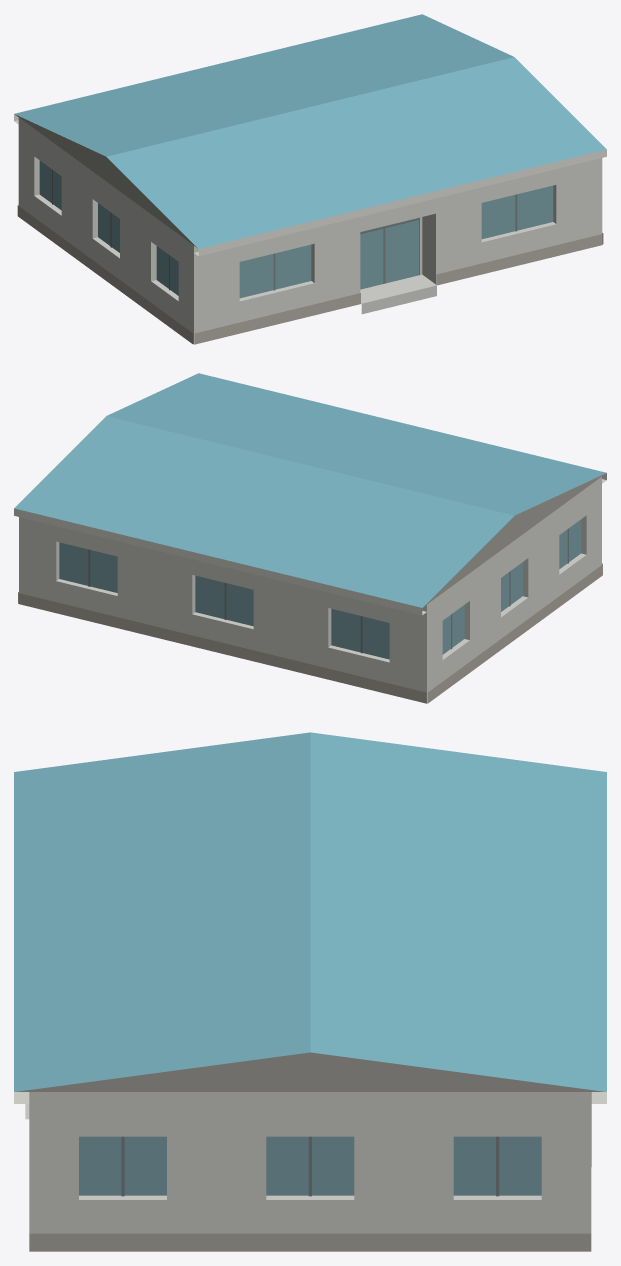
The picture shows the model from 3 angles, top to bottom: view 1: azimuth 30°, elevation 25°; view 2: azimuth 150°, elevation 25°; view 3: azimuth 270°, elevation 25°; orthographic projection. The views are drawn at different scales.
Visible parts, largest first — view 1: aux778946319__roofAccent, aux778946319__wall, aux778946319__glass, aux778946319__base, aux778946319__trim, aux778946319__wall2, aux778946319__entranceThreshold_0, aux778946319__frame; view 2: aux778946319__roofAccent, aux778946319__wall, aux778946319__glass, aux778946319__base, aux778946319__trim, aux778946319__wall2, aux778946319__frame; view 3: aux778946319__roofAccent, aux778946319__wall, aux778946319__glass, aux778946319__wall2, aux778946319__base, aux778946319__frame.
Part boxes in pixels (x1,y1,x2,y2): aux778946319__roofAccent: (14,14,606,248); aux778946319__wall: (18,117,602,344); aux778946319__glass: (39,160,553,298); aux778946319__base: (17,205,603,344); aux778946319__trim: (14,114,606,256); aux778946319__wall2: (15,114,196,247); aux778946319__entranceThreshold_0: (360,274,436,314); aux778946319__frame: (52,169,517,290); aux778946319__roofAccent: (14,373,606,607); aux778946319__wall: (19,477,601,702); aux778946319__glass: (59,519,581,659); aux778946319__base: (18,563,602,703); aux778946319__trim: (14,473,606,615); aux778946319__wall2: (424,473,605,606); aux778946319__frame: (88,528,568,653); aux778946319__roofAccent: (14,732,606,1091); aux778946319__wall: (29,1092,591,1233); aux778946319__glass: (79,1136,541,1195); aux778946319__wall2: (16,1052,604,1091); aux778946319__base: (29,1233,591,1251); aux778946319__frame: (121,1136,499,1196).
Size of the model in its own units: 17.38 by 5.4 by 13.55.
